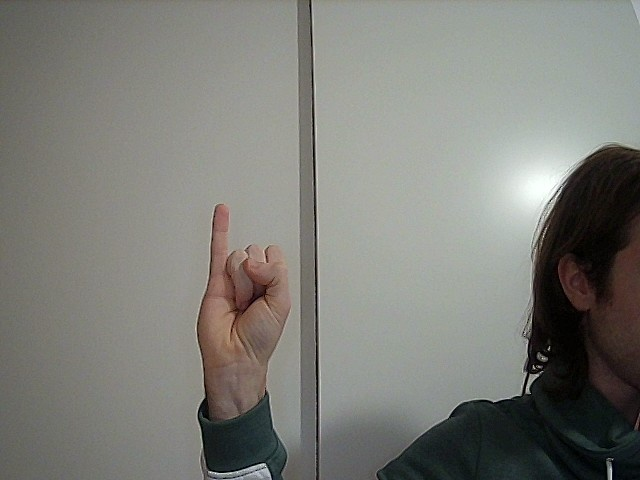i: (168, 190, 303, 368)
